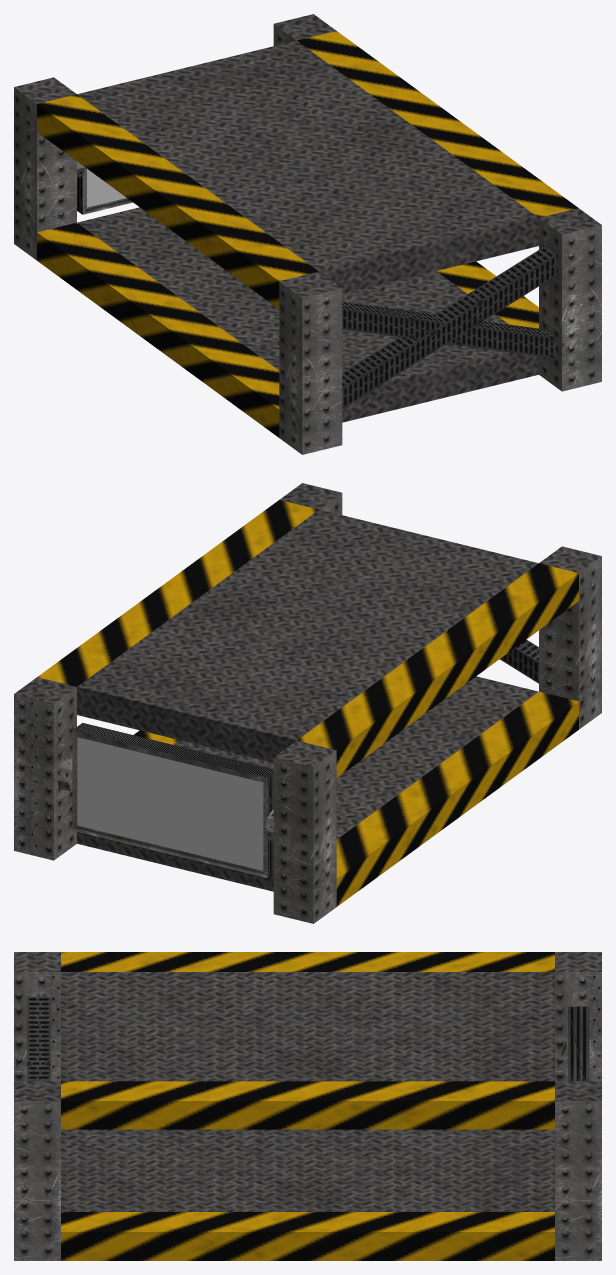
The model's file is Magnetic2.fbx.
3 renders of one model, top to bottom at view 1: azimuth 30°, elevation 25°; view 2: azimuth 150°, elevation 25°; view 3: azimuth 270°, elevation 25°, orthographic.
Visible parts, largest first — view 1: Magnetic2, Screen_Magnetic; view 2: Magnetic2, Screen_Magnetic; view 3: Magnetic2, Screen_Magnetic.
Boxes of the visible parts, left/top/right/bottom form: Magnetic2: left=14, top=14, right=601, bottom=454; Screen_Magnetic: left=77, top=168, right=132, bottom=214; Magnetic2: left=14, top=483, right=601, bottom=923; Screen_Magnetic: left=72, top=723, right=273, bottom=877; Magnetic2: left=14, top=952, right=601, bottom=1260; Screen_Magnetic: left=568, top=1006, right=589, bottom=1081.
Bounding box in the file's own units: 3 × 1.5 × 5.
